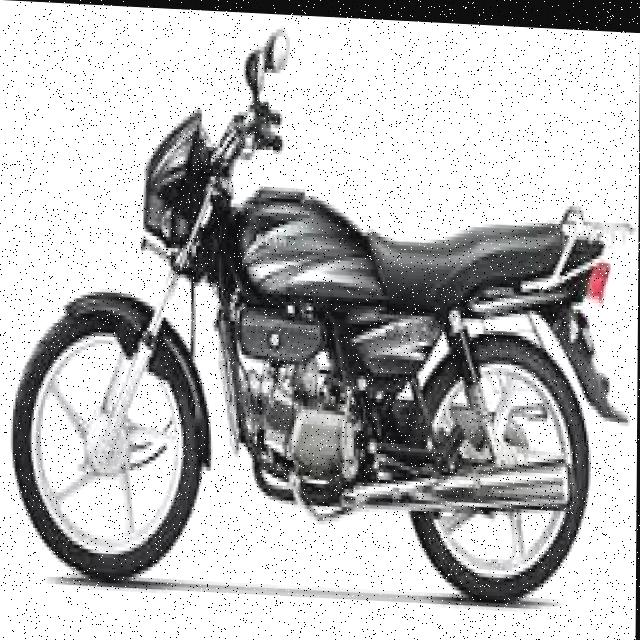bike: (11, 74, 640, 626)
